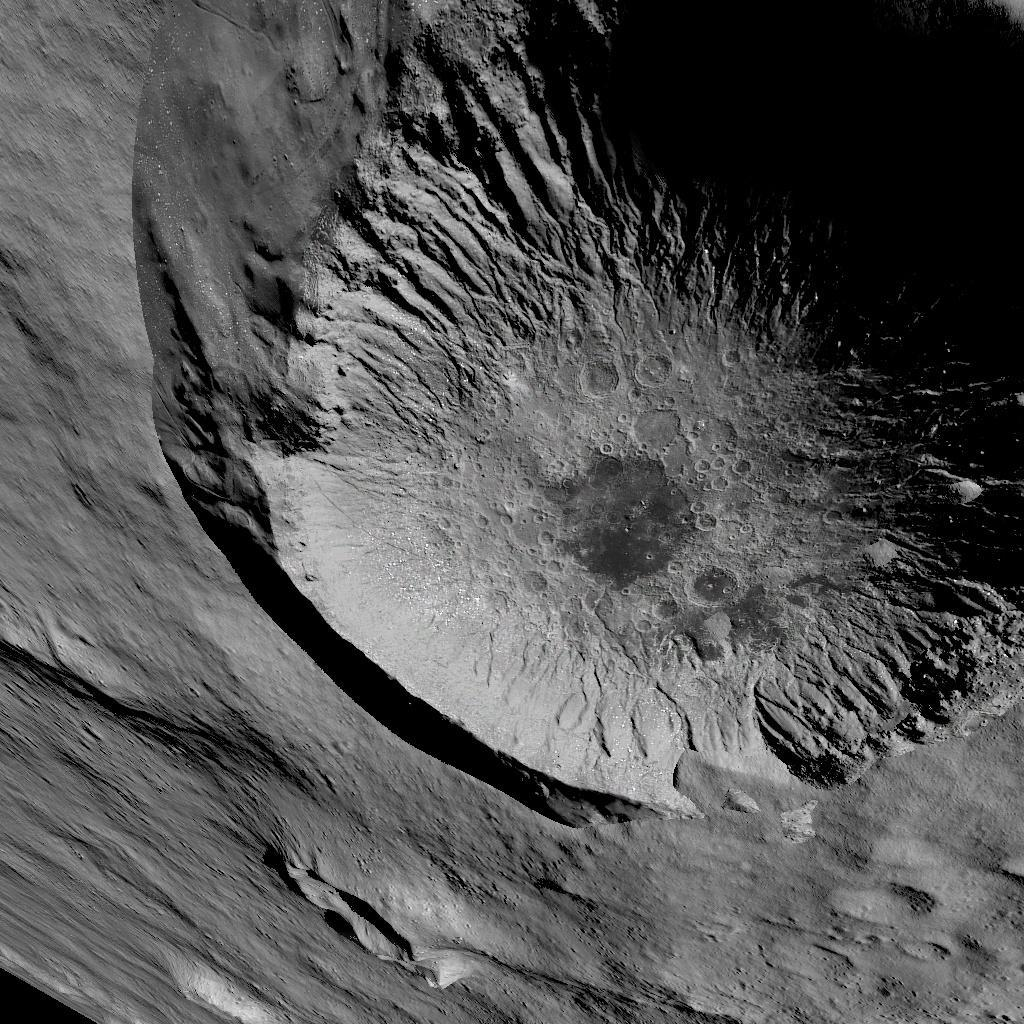Crater: (112, 2, 1023, 834), (224, 848, 418, 998)
Plan surface: (478, 864, 1022, 1024)
